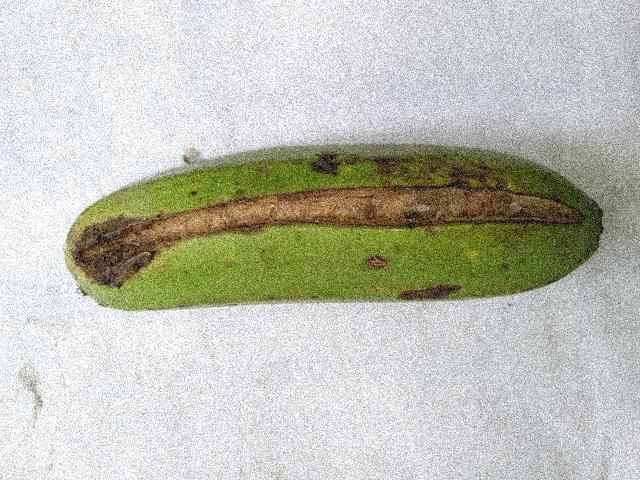rotten: (61, 152, 589, 307)
